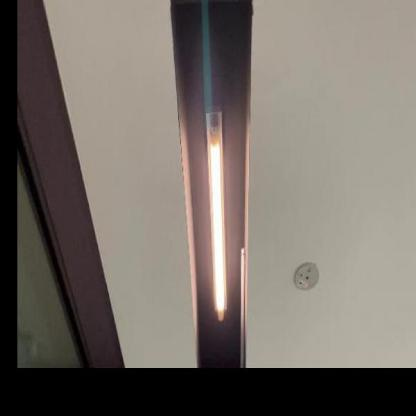light_on: (199, 88, 233, 324)
